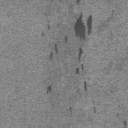red iron: (73, 13, 93, 42), (74, 48, 84, 75), (50, 44, 58, 60), (46, 85, 52, 94), (84, 82, 88, 92), (64, 36, 68, 44), (123, 120, 126, 128), (41, 32, 45, 37), (76, 0, 80, 4), (94, 107, 96, 114)
